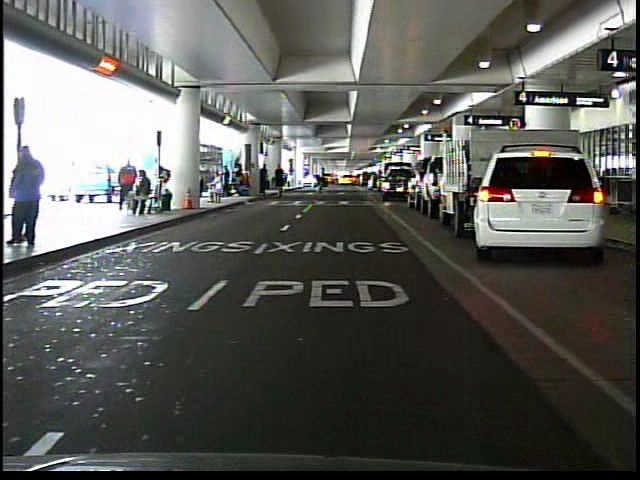person: (8, 142, 56, 256), (207, 171, 228, 207), (313, 165, 330, 195)
